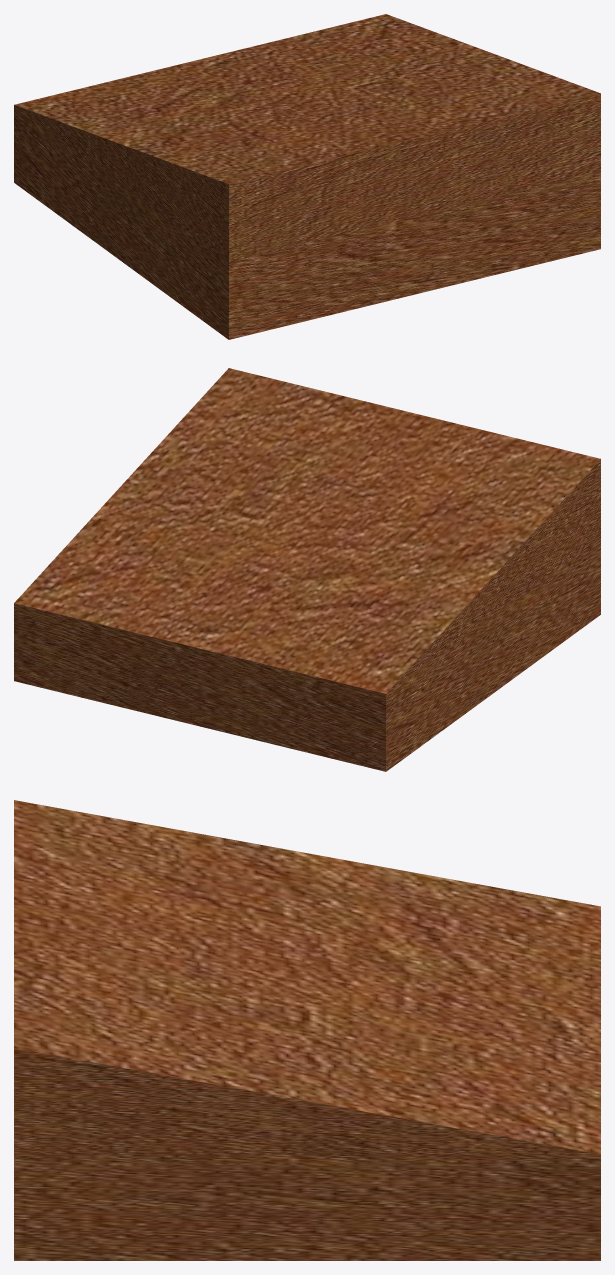
The model's file is Map0011.fbx.
The picture shows the model from 3 angles, top to bottom: view 1: azimuth 30°, elevation 25°; view 2: azimuth 150°, elevation 25°; view 3: azimuth 270°, elevation 25°; orthographic projection. The views are drawn at different scales.
Parts seen in each view (by area): view 1: Map0011, Map0000; view 2: Map0011, Map0000; view 3: Map0011, Map0000.
Boxes of the visible parts, x1,y1,x2,y2 form: Map0011: (14, 14, 600, 261); Map0000: (14, 105, 600, 339); Map0011: (14, 368, 600, 693); Map0000: (14, 537, 600, 771); Map0011: (14, 800, 600, 1154); Map0000: (14, 1154, 600, 1260).
Size of the model in its own units: 200 by 80 by 200.
2 materials, 2 textured.
